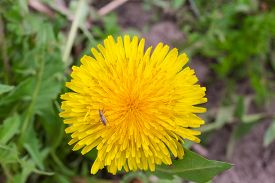dandelion: (61, 38, 208, 178)
